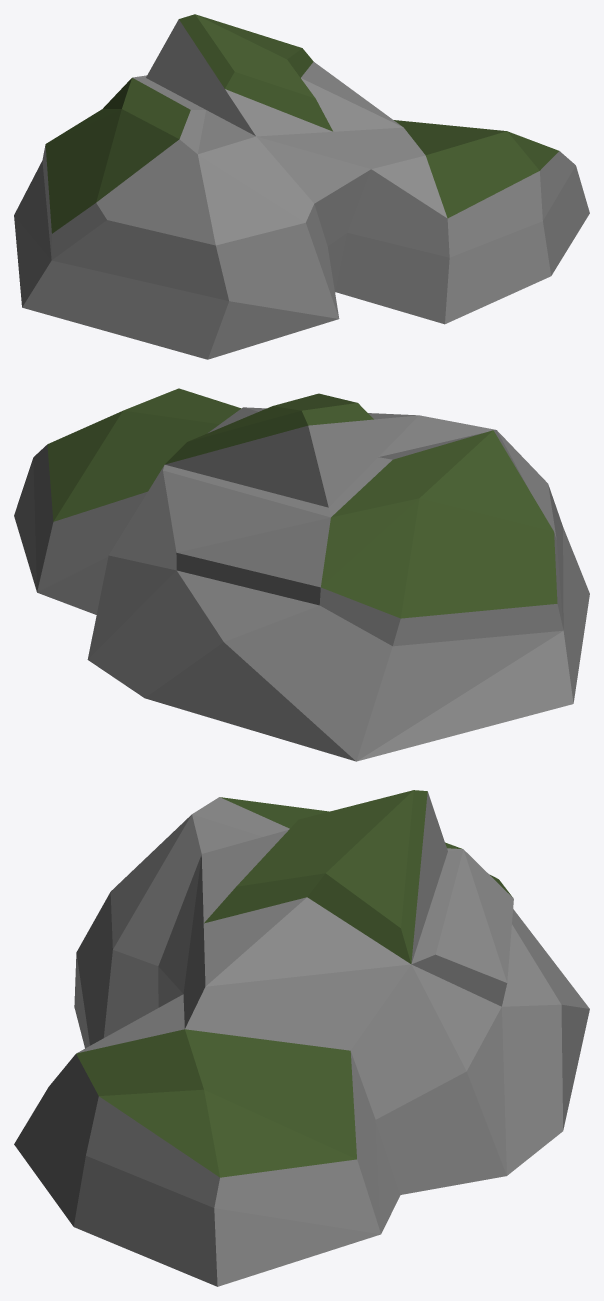
The model's file is rock_3.fbx.
3 renders of one model, top to bottom at view 1: azimuth 30°, elevation 25°; view 2: azimuth 150°, elevation 25°; view 3: azimuth 270°, elevation 25°, orthographic. The views are drawn at different scales.
Parts seen in each view (by area): view 1: stone_with_moss_3.001; view 2: stone_with_moss_3.001; view 3: stone_with_moss_3.001.
Boxes of the visible parts, x1,y1,x2,y2 form: stone_with_moss_3.001: (14, 14, 589, 359); stone_with_moss_3.001: (14, 388, 589, 761); stone_with_moss_3.001: (14, 790, 589, 1286).
Bounding box in the file's own units: 978 × 398 × 711.
